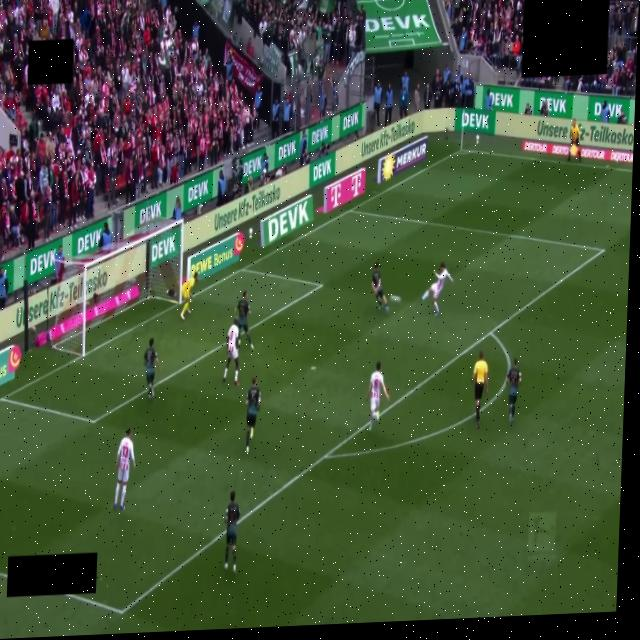ball: (389, 295, 401, 302)
player: (114, 429, 135, 511), (422, 263, 453, 315), (367, 362, 390, 430), (225, 491, 240, 573), (505, 358, 523, 422), (246, 377, 261, 452), (223, 318, 239, 386), (144, 339, 160, 400), (236, 292, 253, 349), (372, 263, 389, 310), (181, 273, 198, 319)
referee: (472, 351, 488, 428)
